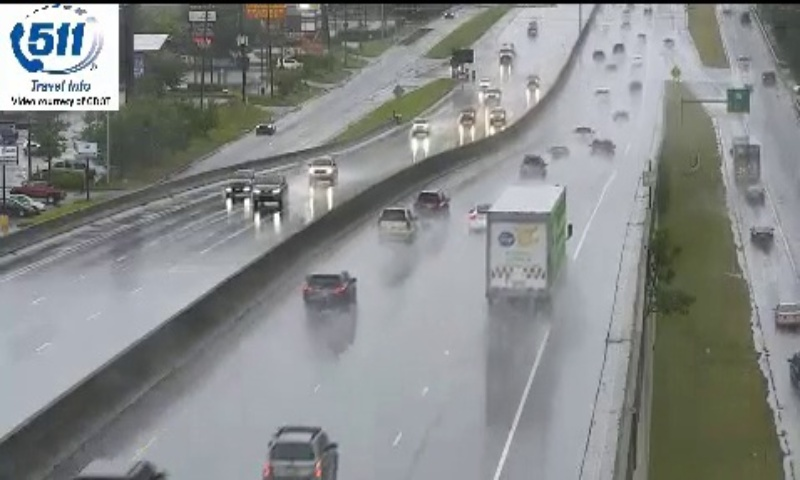car: (264, 428, 339, 478), (306, 274, 354, 314), (378, 209, 415, 241), (415, 190, 450, 222), (466, 203, 498, 232), (520, 156, 545, 179)
small-truck: (487, 184, 567, 306)
